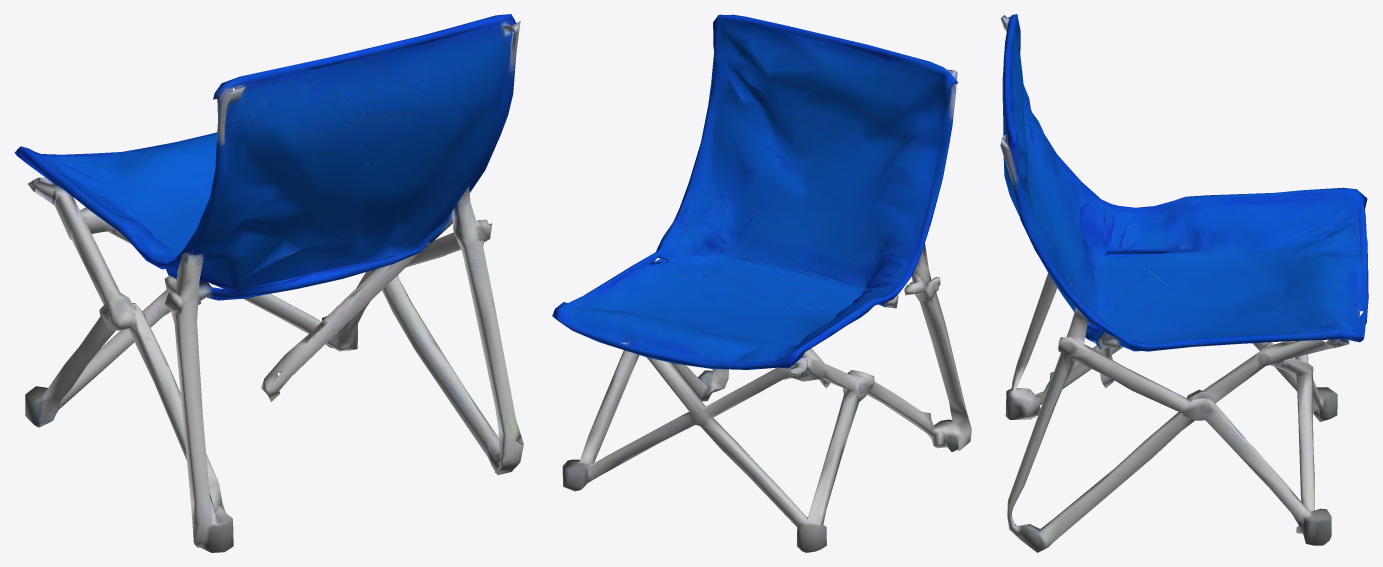
The model's file is chair.glb.
3 views of the same model, side by side, from view 1: azimuth 30°, elevation 25°; view 2: azimuth 150°, elevation 25°; view 3: azimuth 270°, elevation 25° (orthographic). The views are drawn at different scales.
Parts seen in each view (by area): view 1: tripo_node_bd647a61-6326-49d0-ab4e-62259649fe1a; view 2: tripo_node_bd647a61-6326-49d0-ab4e-62259649fe1a; view 3: tripo_node_bd647a61-6326-49d0-ab4e-62259649fe1a.
Part boxes in pixels (<box>): tripo_node_bd647a61-6326-49d0-ab4e-62259649fe1a: <box>14,14,523,552</box>; tripo_node_bd647a61-6326-49d0-ab4e-62259649fe1a: <box>552,14,971,552</box>; tripo_node_bd647a61-6326-49d0-ab4e-62259649fe1a: <box>1000,14,1368,552</box>.
Bounding box in the file's own units: 0.7363 × 1 × 0.8047.
Materials: 1 (1 with a texture image).
